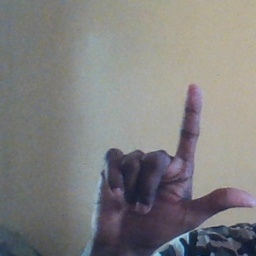L: (89, 80, 256, 253)
